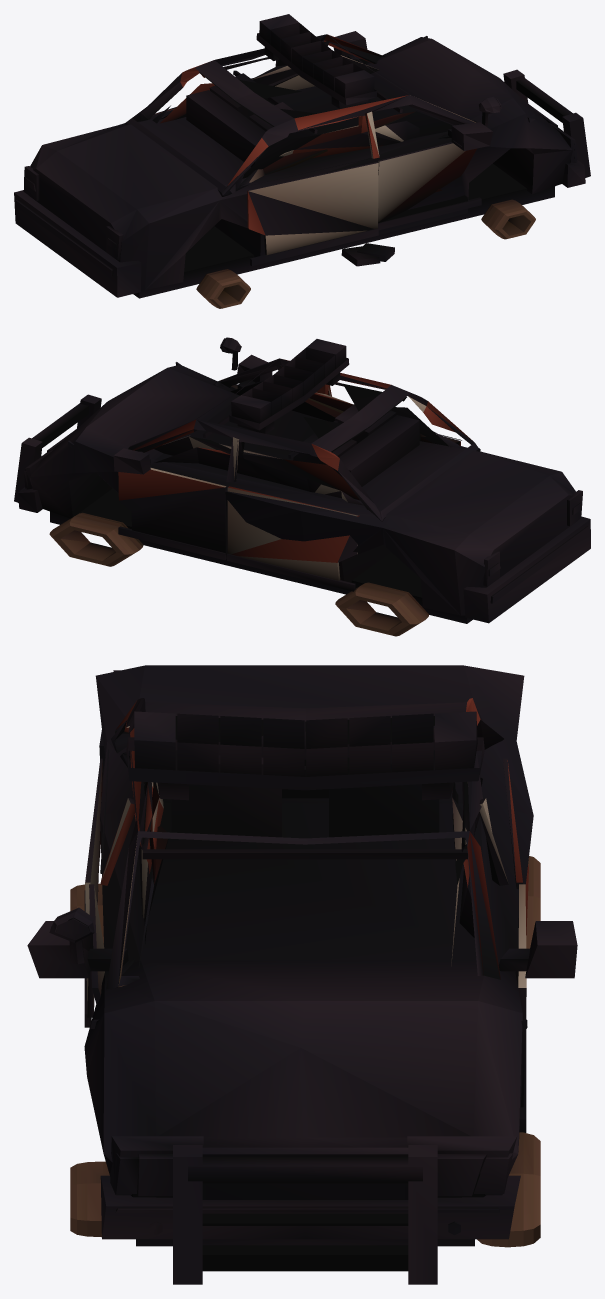
The model's file is veh.police-sedan.burned.lod2.glb.
3 views of the same model, one above another, from view 1: azimuth 30°, elevation 25°; view 2: azimuth 150°, elevation 25°; view 3: azimuth 270°, elevation 25° (orthographic). The views are drawn at different scales.
Visible parts, largest first — view 1: body, wheelFL, wheelRL; view 2: body, wheelRR, wheelFR; view 3: body, wheelFR, wheelFL, wheelRR.
Boxes of the visible parts, x1=… form: body: x1=14, y1=14, x2=590, y2=298; wheelFL: x1=481, y1=199, x2=535, y2=239; wheelRL: x1=196, y1=269, x2=250, y2=308; body: x1=14, y1=337, x2=590, y2=623; wheelRR: x1=335, y1=582, x2=428, y2=636; wheelFR: x1=49, y1=512, x2=143, y2=566; body: x1=27, y1=665, x2=577, y2=1284; wheelFR: x1=477, y1=1132, x2=540, y2=1247; wheelFL: x1=70, y1=1161, x2=109, y2=1237; wheelRR: x1=526, y1=856, x2=540, y2=948.
Size of the model in its own units: 5.04 by 1.77 by 2.43.
